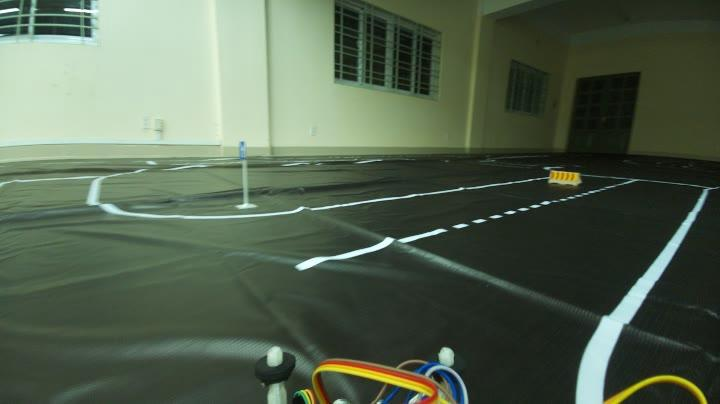onewayroad: (233, 140, 250, 162)
